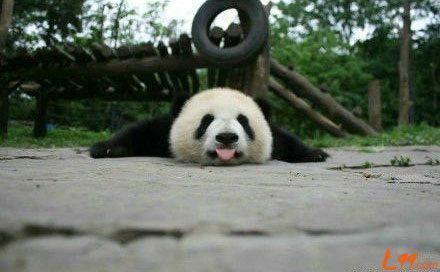panda: (85, 86, 334, 167)
